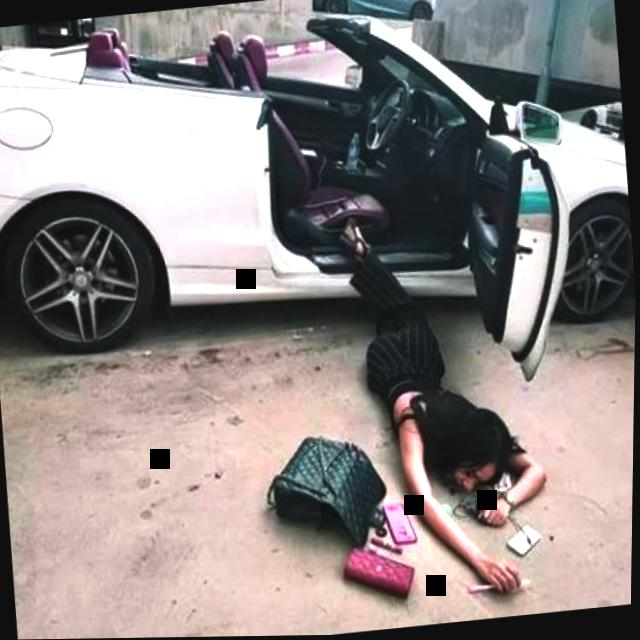Fall-Detected: (305, 177, 578, 622)
